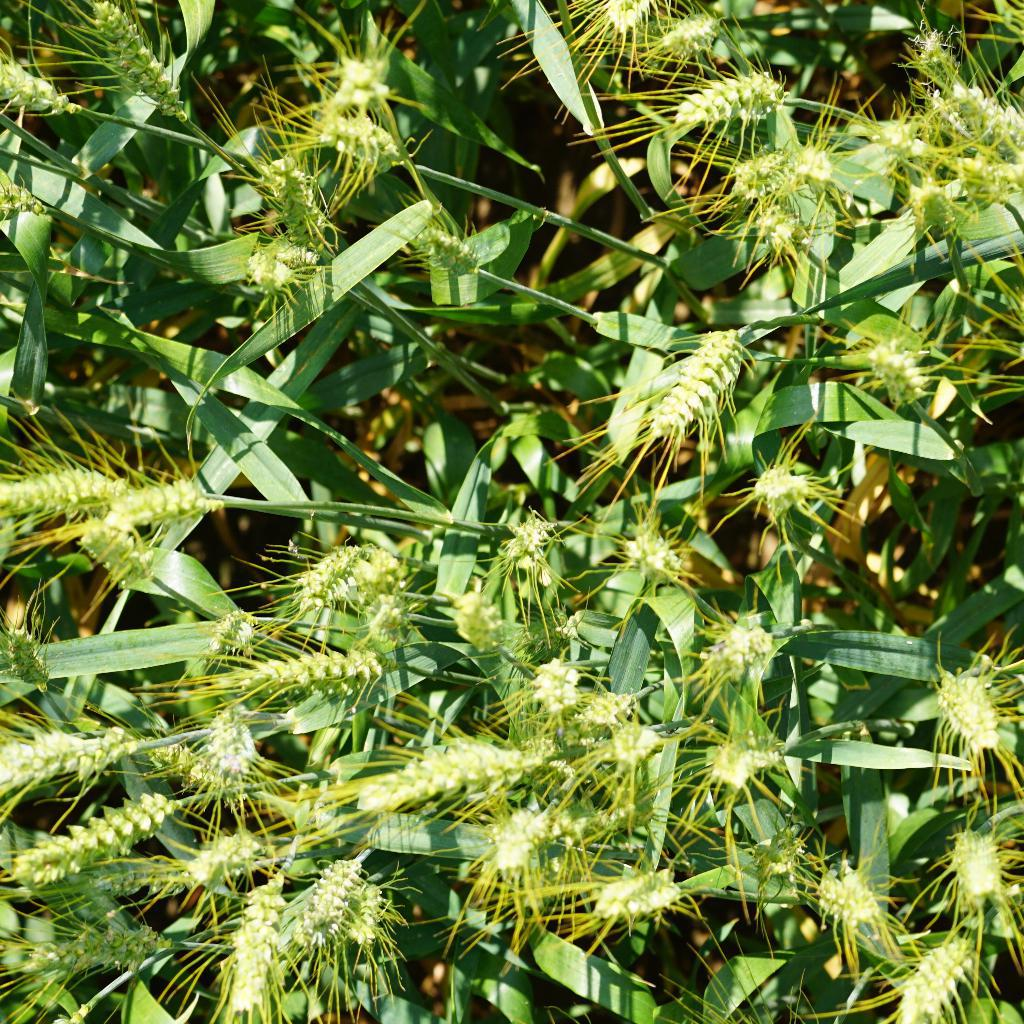0-0: (6, 776, 189, 881), (77, 0, 208, 134), (645, 305, 766, 447), (217, 847, 290, 1024), (340, 731, 545, 793), (459, 776, 576, 879), (189, 649, 415, 702), (0, 705, 142, 787), (243, 159, 357, 261), (8, 922, 183, 979), (660, 68, 810, 134), (66, 477, 231, 534), (485, 486, 579, 580), (896, 925, 985, 1024), (934, 662, 1019, 765), (572, 854, 702, 918), (864, 337, 965, 414), (0, 56, 105, 130), (0, 455, 127, 516), (621, 4, 732, 70), (311, 111, 418, 179), (802, 864, 903, 933), (236, 238, 344, 302), (302, 537, 414, 598), (189, 590, 291, 656), (389, 220, 487, 288), (553, 683, 657, 742), (438, 586, 516, 664), (182, 830, 277, 893), (940, 79, 1024, 149), (893, 172, 980, 239), (191, 709, 265, 787), (594, 717, 684, 781), (941, 819, 1009, 903), (609, 508, 688, 579), (307, 848, 358, 956), (750, 453, 833, 519), (320, 44, 404, 109), (0, 610, 68, 681), (519, 653, 586, 720), (751, 202, 821, 266), (856, 110, 930, 169), (906, 22, 961, 100), (692, 739, 777, 789), (348, 884, 404, 957), (703, 616, 772, 675), (941, 154, 1008, 213), (355, 600, 430, 651), (83, 523, 148, 578), (579, 0, 687, 30), (784, 145, 848, 193), (724, 146, 778, 201)
